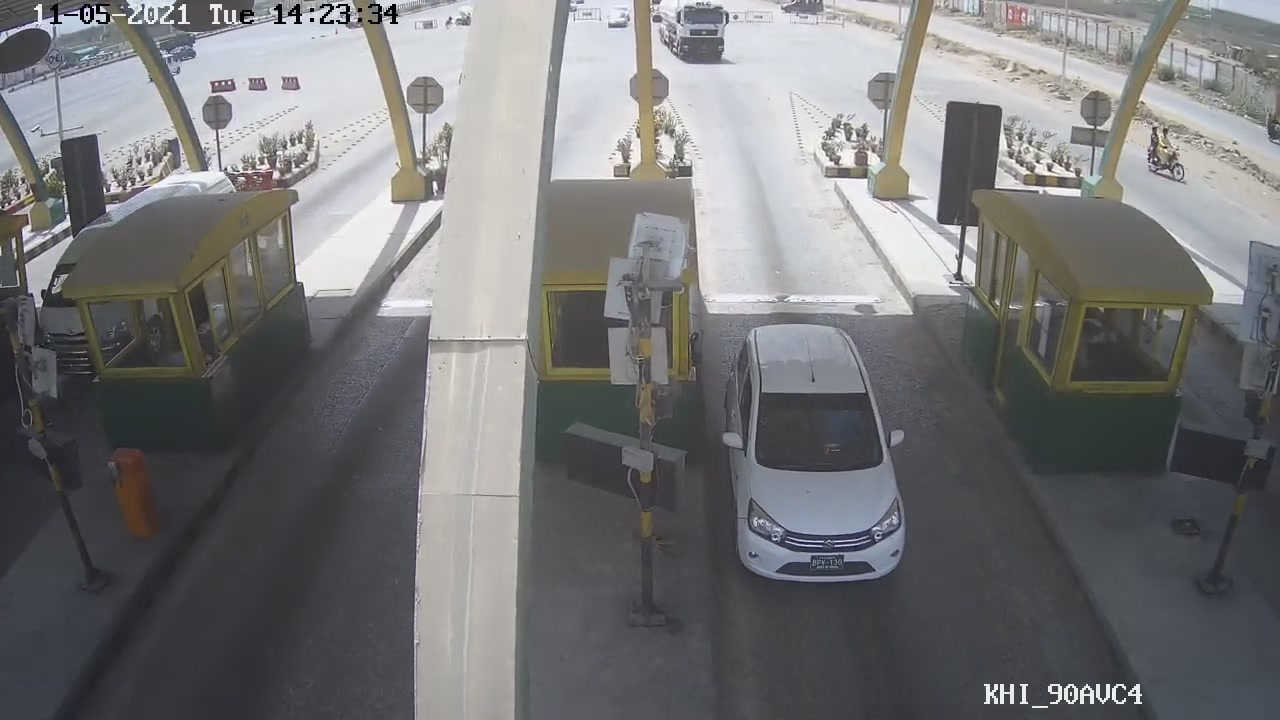F1: (718, 327, 915, 584)
